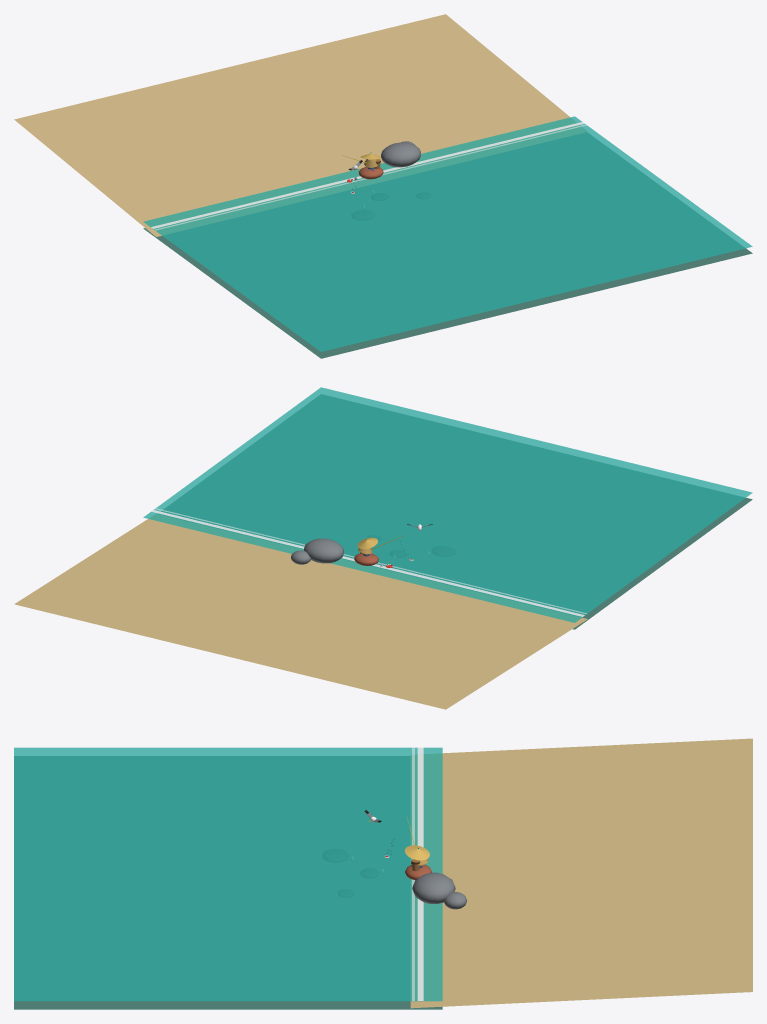
Rendered from cozy_fishing_shoreline.glb.
3 renders of one model, top to bottom at view 1: azimuth 30°, elevation 25°; view 2: azimuth 150°, elevation 25°; view 3: azimuth 270°, elevation 25°, orthographic. The views are drawn at different scales.
Parts seen in each view (by area): view 1: OceanWater, SubmergedSeabed, BeachSand, ShorelineFoam, BeachBoulderLarge, ShorelineFoamFine; view 2: OceanWater, SubmergedSeabed, BeachSand, ShorelineFoam, BeachBoulderLarge, ShorelineFoamFine; view 3: OceanWater, SubmergedSeabed, BeachSand, ShorelineFoam, BeachBoulderLarge, ShorelineFoamFine.
Part boxes in pixels (x1,y1,x2,y2): OceanWater: (143, 116, 752, 351); SubmergedSeabed: (143, 132, 752, 358); BeachSand: (14, 14, 586, 236); ShorelineFoam: (151, 122, 584, 228); BeachBoulderLarge: (381, 142, 420, 167); ShorelineFoamFine: (155, 124, 586, 230); OceanWater: (143, 387, 752, 622); SubmergedSeabed: (161, 394, 752, 629); BeachSand: (14, 514, 587, 709); ShorelineFoam: (151, 510, 584, 616); BeachBoulderLarge: (304, 538, 343, 563); ShorelineFoamFine: (155, 508, 586, 613); OceanWater: (14, 747, 442, 1001); SubmergedSeabed: (14, 756, 442, 1009); BeachSand: (410, 738, 752, 1008); ShorelineFoam: (417, 747, 423, 1000); BeachBoulderLarge: (412, 872, 455, 903); ShorelineFoamFine: (412, 747, 414, 1000).
Size of the model in its own units: 28 by 2.48 by 34.49.
